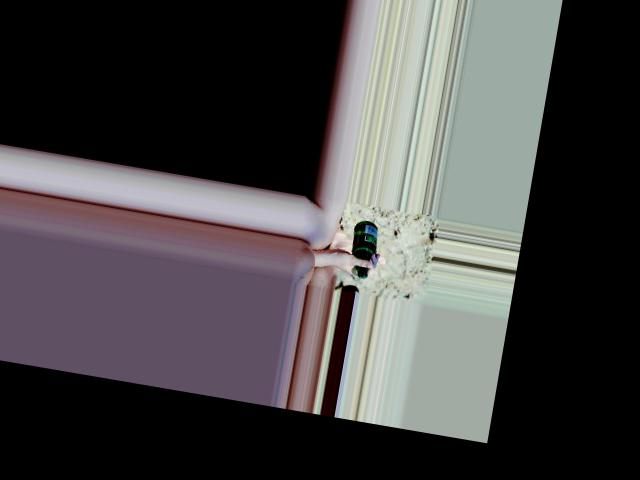beer: (345, 218, 380, 280)
